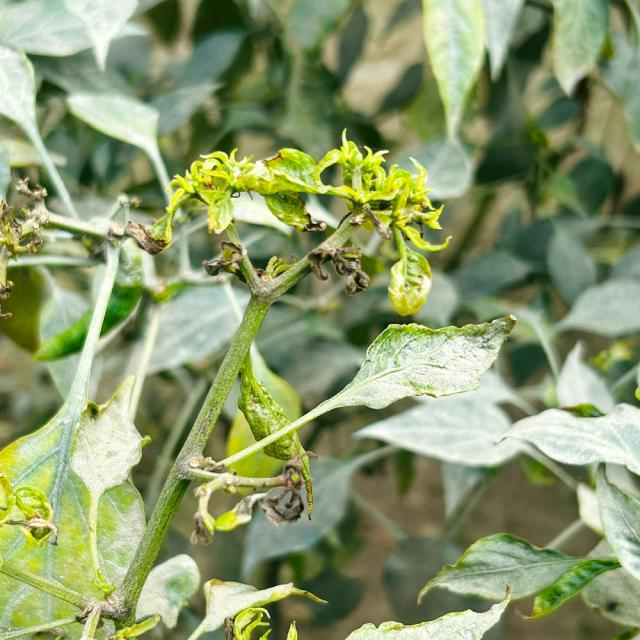Chilli_Leaf_Curl: (1, 1, 638, 638), (146, 128, 452, 316), (236, 312, 517, 462), (0, 373, 150, 635), (65, 374, 149, 594), (415, 531, 622, 619), (493, 401, 639, 476), (343, 582, 512, 639), (186, 576, 328, 638), (387, 248, 432, 317)
